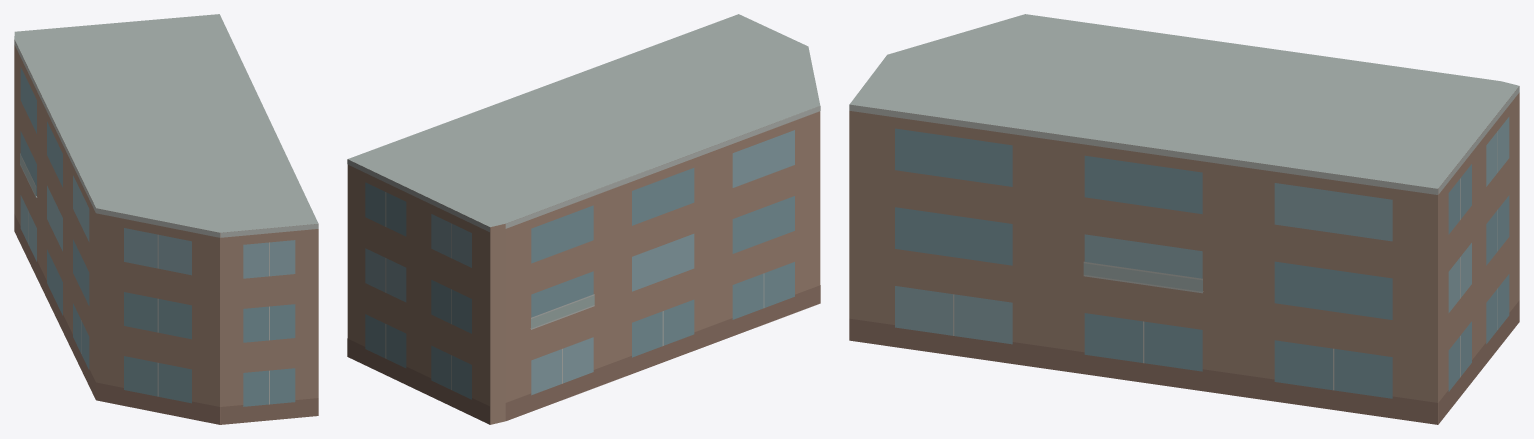
Rendered from survey-upis-33023453.glb.
The picture shows the model from 3 angles, left to right: view 1: azimuth 30°, elevation 25°; view 2: azimuth 150°, elevation 25°; view 3: azimuth 270°, elevation 25°; orthographic projection. The views are drawn at different scales.
Visible parts, largest first — view 1: survey-upis-33023453.tmp; view 2: survey-upis-33023453.tmp; view 3: survey-upis-33023453.tmp.
Part boxes in pixels (<box>): survey-upis-33023453.tmp: <box>14,14,318,424</box>; survey-upis-33023453.tmp: <box>347,14,820,424</box>; survey-upis-33023453.tmp: <box>849,14,1519,424</box>.
Bounding box in the file's own units: 14.54 × 9.15 × 23.55.
